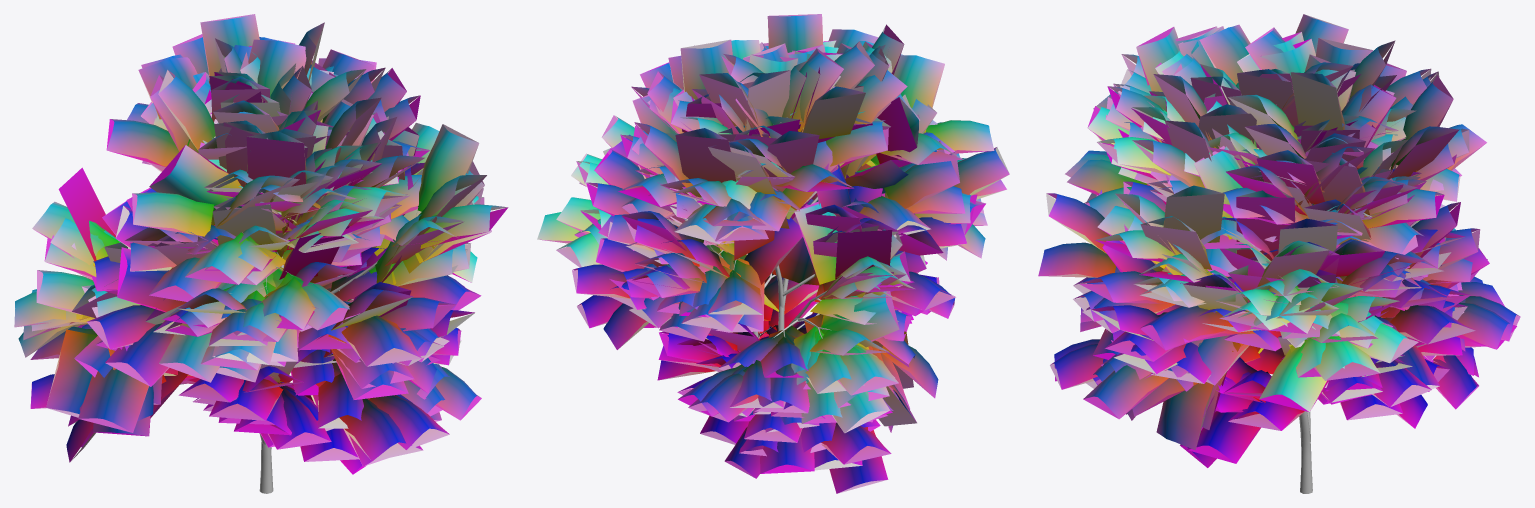
The model's file is elm_03_1.fbx.
3 renders of one model, left to right at view 1: azimuth 30°, elevation 25°; view 2: azimuth 150°, elevation 25°; view 3: azimuth 270°, elevation 25°, orthographic. The views are drawn at different scales.
Visible parts, largest first — view 1: elm_rought_leaves_03_1_lod_0, elm_rought_leaves_03_1_shadow, elm_rought_tree_03_1_lod_0; view 2: elm_rought_leaves_03_1_lod_0, elm_rought_leaves_03_1_shadow, elm_rought_tree_03_1_lod_0; view 3: elm_rought_leaves_03_1_lod_0, elm_rought_leaves_03_1_shadow, elm_rought_tree_03_1_lod_0.
Part boxes in pixels (x1,y1,x2,y2): elm_rought_leaves_03_1_lod_0: [14, 14, 507, 474]; elm_rought_leaves_03_1_shadow: [16, 14, 508, 473]; elm_rought_tree_03_1_lod_0: [230, 210, 417, 493]; elm_rought_leaves_03_1_lod_0: [537, 14, 1009, 493]; elm_rought_leaves_03_1_shadow: [540, 14, 1008, 493]; elm_rought_tree_03_1_lod_0: [706, 196, 831, 362]; elm_rought_leaves_03_1_lod_0: [1038, 14, 1519, 467]; elm_rought_leaves_03_1_shadow: [1040, 14, 1520, 467]; elm_rought_tree_03_1_lod_0: [1299, 317, 1381, 493].
Size of what is drawn, in the model's own units: 13.82 by 14 by 13.76.
